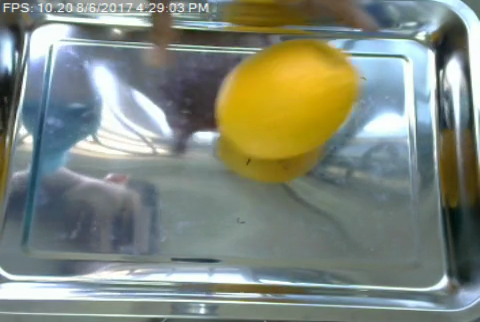Orange: (213, 38, 360, 161)
